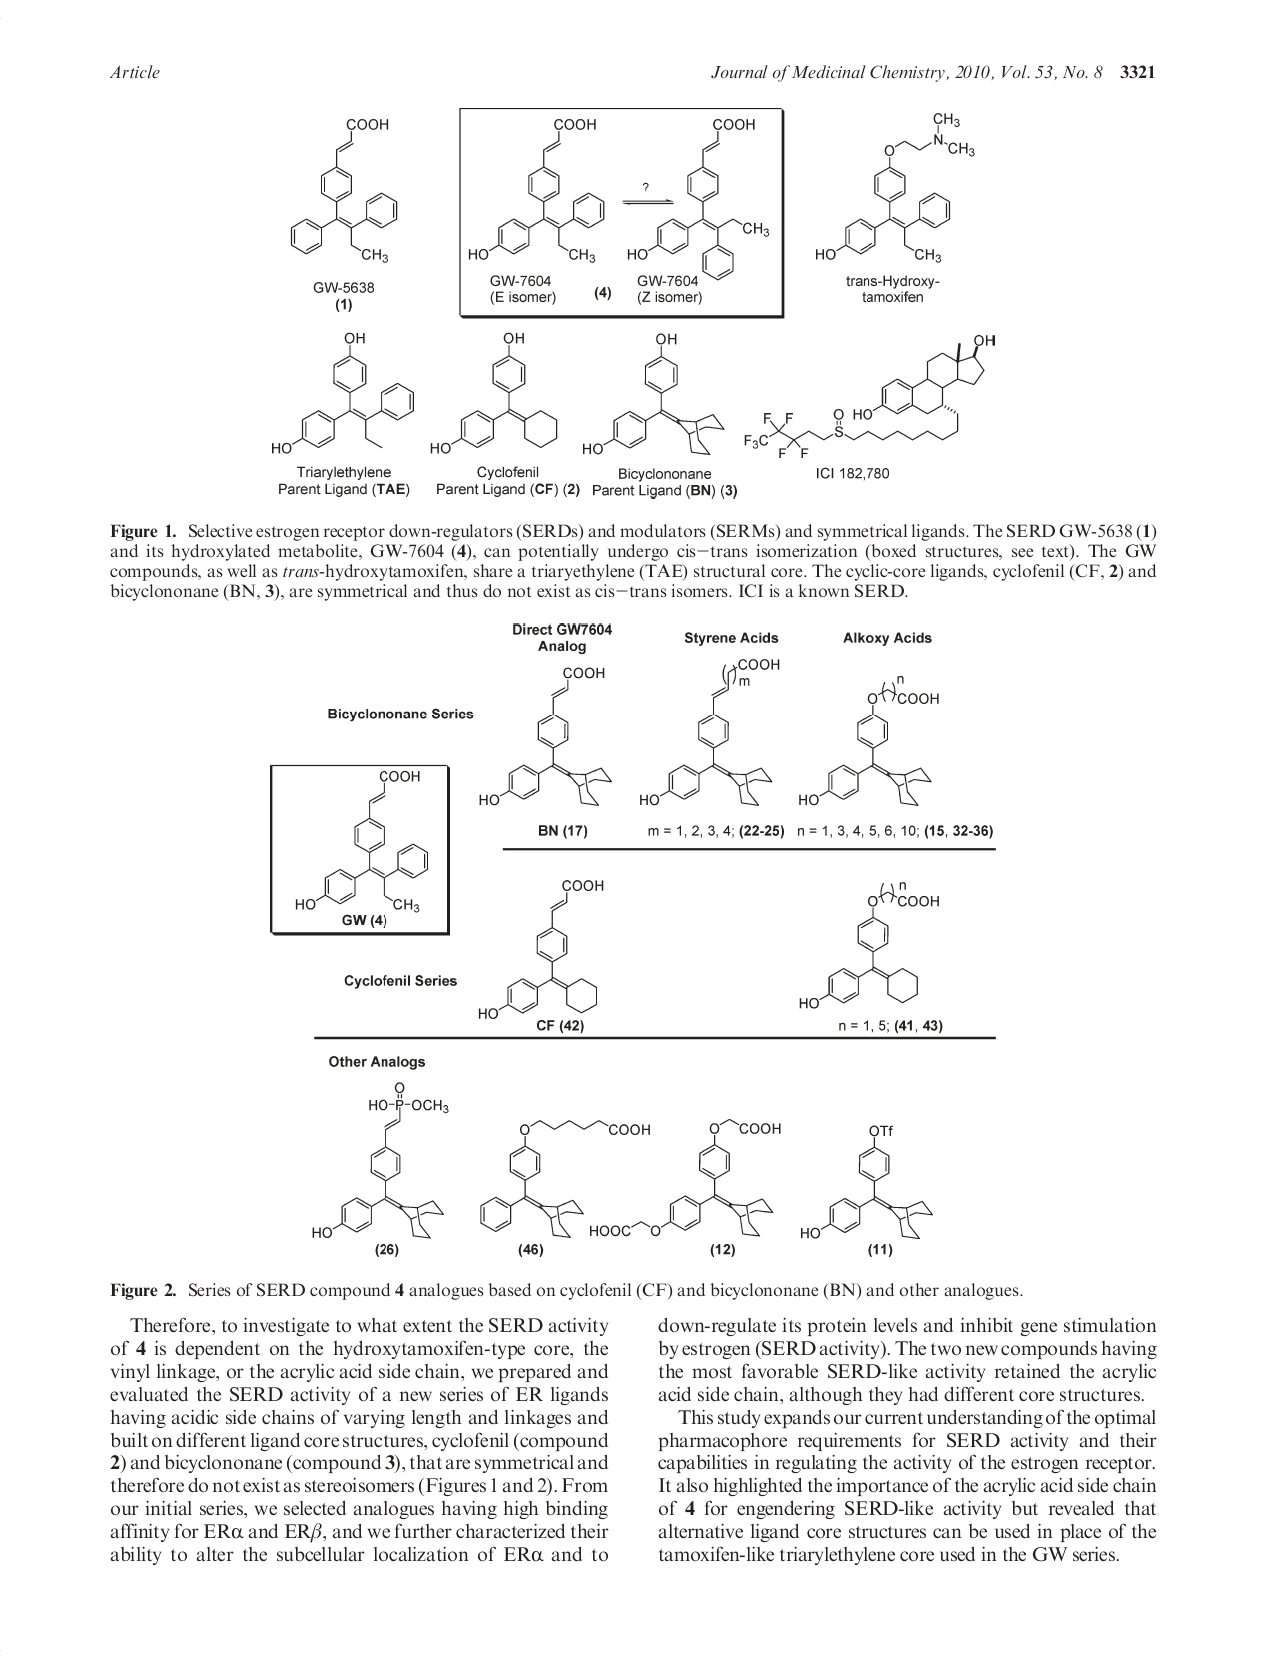exist_molecular: (743, 332, 1004, 465), (806, 105, 979, 273), (582, 1112, 790, 1243), (307, 1077, 455, 1246), (625, 114, 769, 282), (637, 656, 786, 813), (793, 875, 955, 1016), (461, 116, 606, 267), (293, 767, 442, 914), (476, 1121, 657, 1239), (797, 672, 944, 817), (473, 875, 616, 1023), (477, 658, 613, 813), (578, 328, 727, 467), (267, 330, 418, 461), (426, 330, 565, 460), (797, 1121, 938, 1243), (283, 116, 399, 265)
